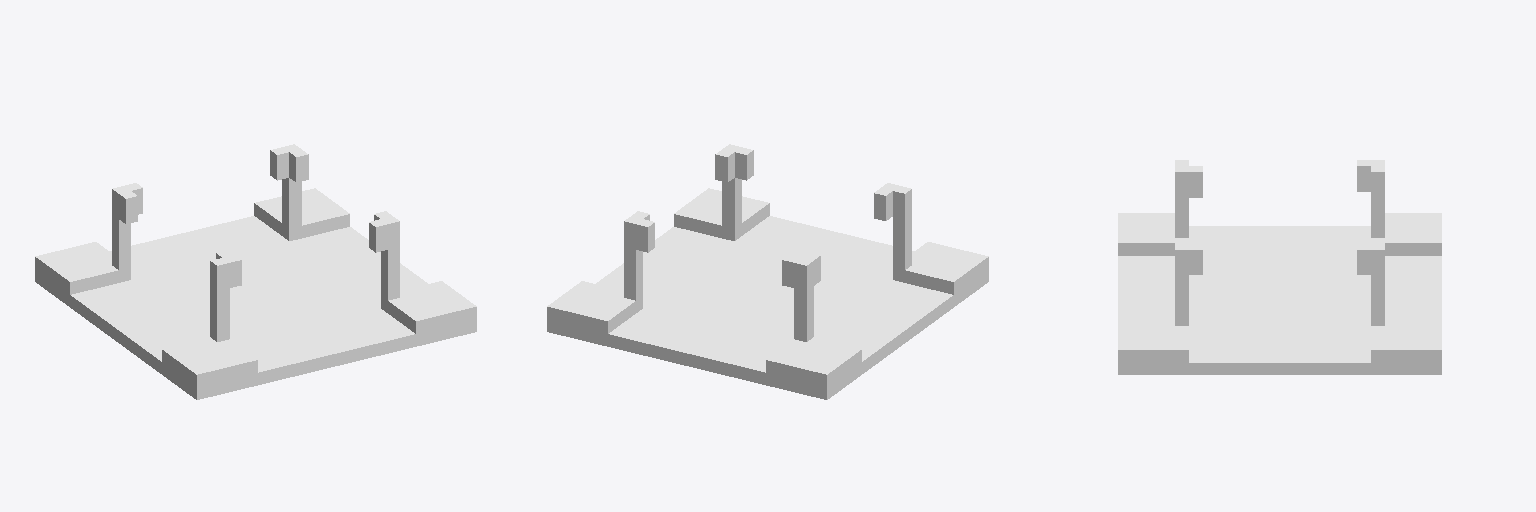
Rendered from Road2.obj.
The picture shows the model from 3 angles: view 1: azimuth 30°, elevation 25°; view 2: azimuth 150°, elevation 25°; view 3: azimuth 270°, elevation 25°; orthographic projection.
Visible parts, largest first — view 1: Road2; view 2: Road2; view 3: Road2.
Boxes of the visible parts, x1,y1,x2,y2 form: Road2: [35, 144, 476, 399]; Road2: [547, 144, 988, 399]; Road2: [1118, 160, 1441, 374].
Size of the model in its own units: 23 by 8 by 23.